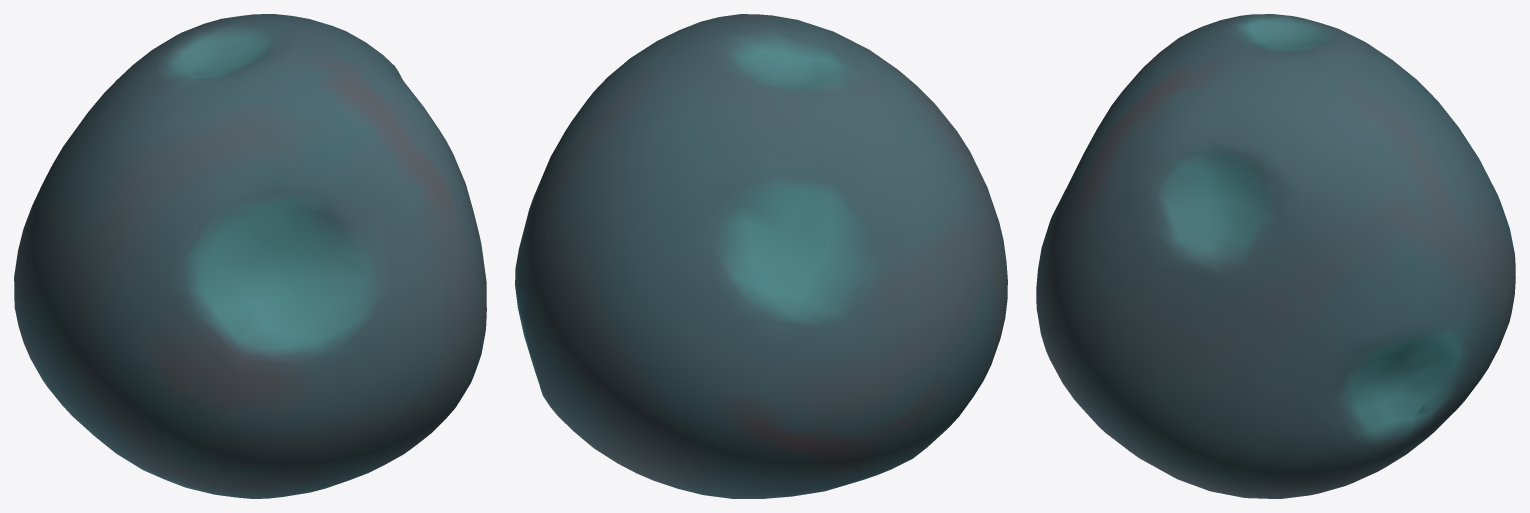
Rendered from Asteroid B.fbx.
3 renders of one model, left to right at view 1: azimuth 30°, elevation 25°; view 2: azimuth 150°, elevation 25°; view 3: azimuth 270°, elevation 25°, orthographic. The views are drawn at different scales.
Parts seen in each view (by area): view 1: Icosphere; view 2: Icosphere; view 3: Icosphere.
Boxes of the visible parts, x1,y1,x2,y2 form: Icosphere: (14,14,486,498); Icosphere: (515,14,1007,498); Icosphere: (1036,14,1515,498).
Bounding box in the file's own units: 1203 × 1226 × 1250.
